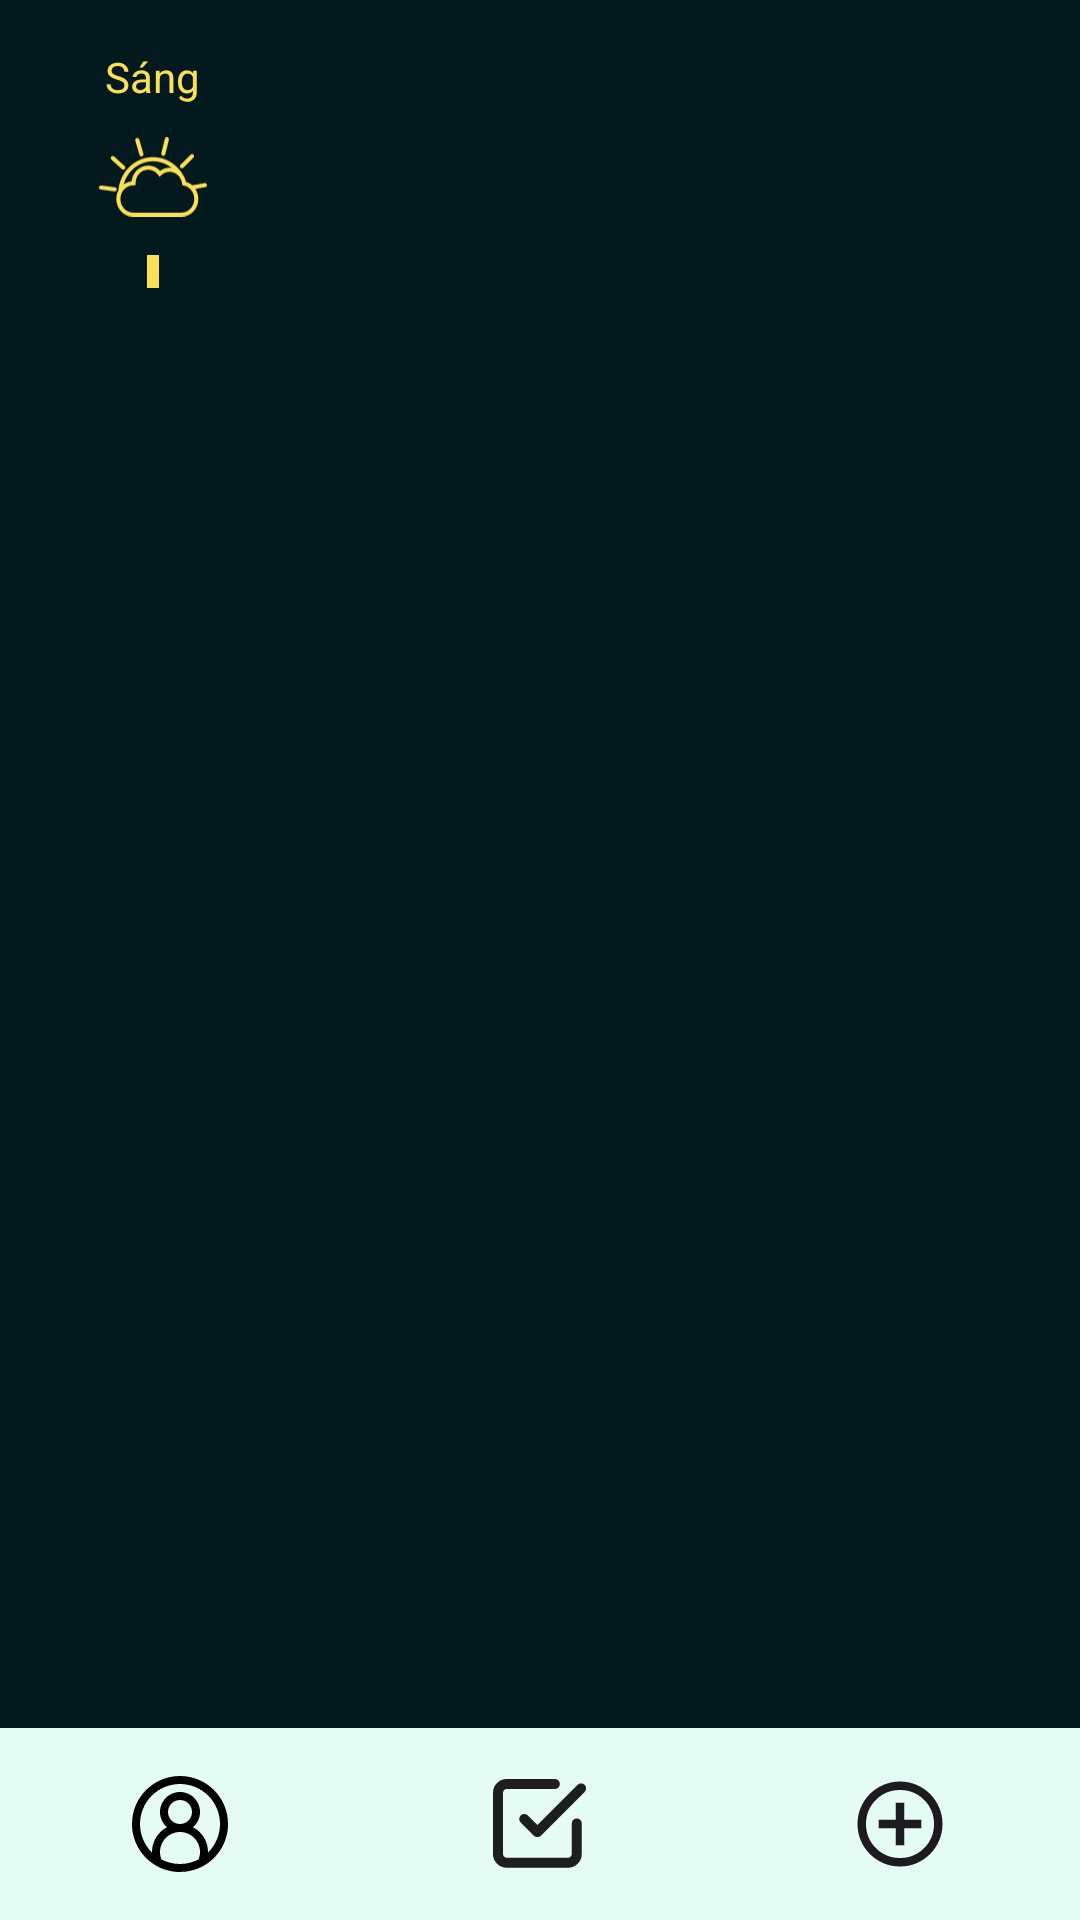

Screen size 1080px×1920px. Icon name, then its box in pixels as (x1, y1, x2, y2):
add medicine icon: (857, 1781, 943, 1867)
checkbox icon: (493, 1779, 586, 1868)
user icon: (132, 1776, 228, 1872)
